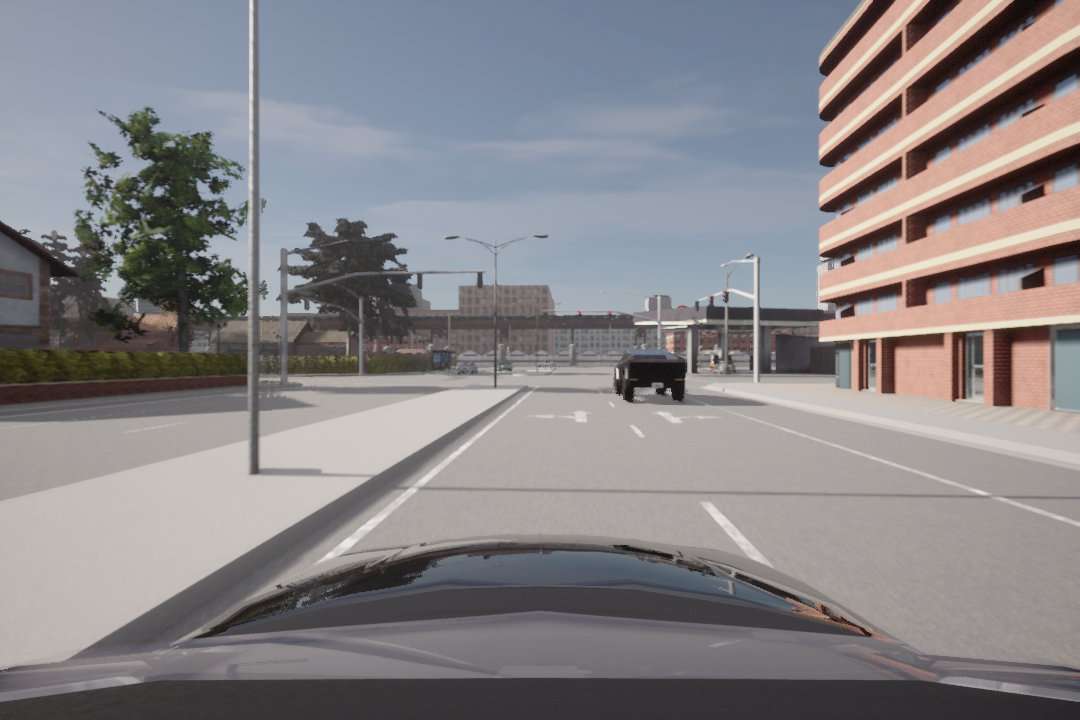RoadSign_forward_left: (526, 407, 598, 427)
RoadSign_forward_right: (651, 408, 726, 425)
